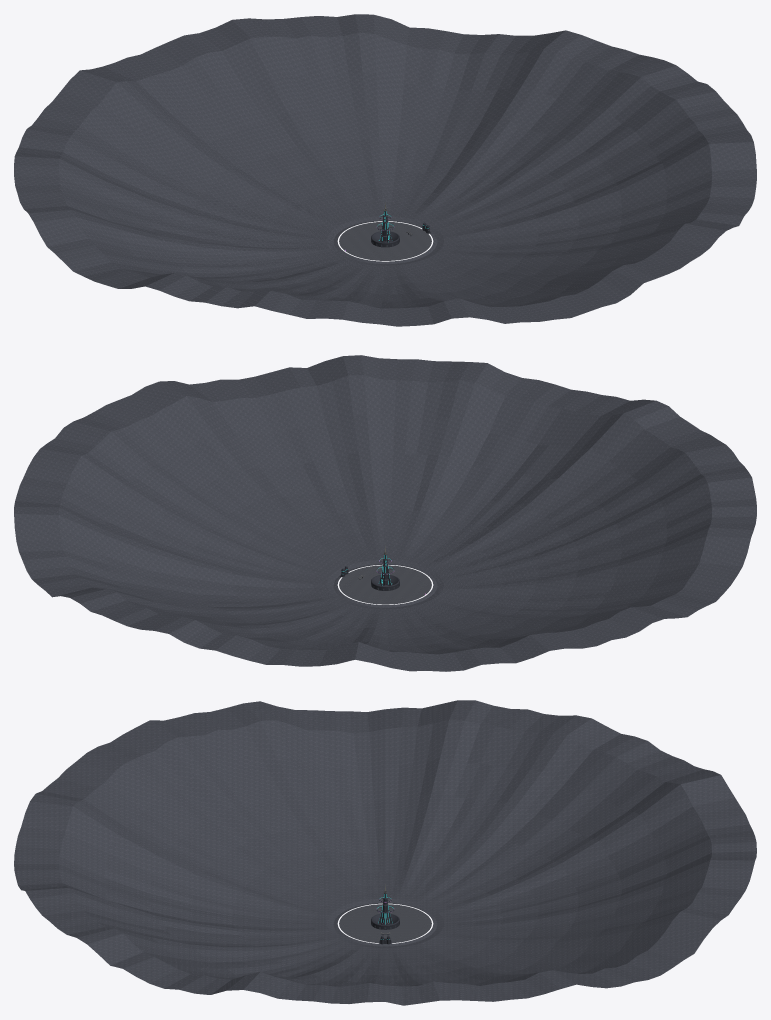
File: nexus.glb
3 views of the same model, one above another, from view 1: azimuth 30°, elevation 25°; view 2: azimuth 150°, elevation 25°; view 3: azimuth 270°, elevation 25° (orthographic).
Visible parts, largest first — view 1: NX_land, NX_ground; view 2: NX_land, NX_ground; view 3: NX_land, NX_ground.
Boxes of the visible parts, box(x1,y1,x2,y2) form: NX_land: box(14, 14, 756, 326); NX_ground: box(339, 222, 431, 260); NX_land: box(14, 355, 756, 671); NX_ground: box(339, 565, 431, 604); NX_land: box(14, 700, 756, 1005); NX_ground: box(339, 904, 431, 942).
Size of the model in its own units: 3300 by 406 by 3300.
10 materials, 6 textured.
